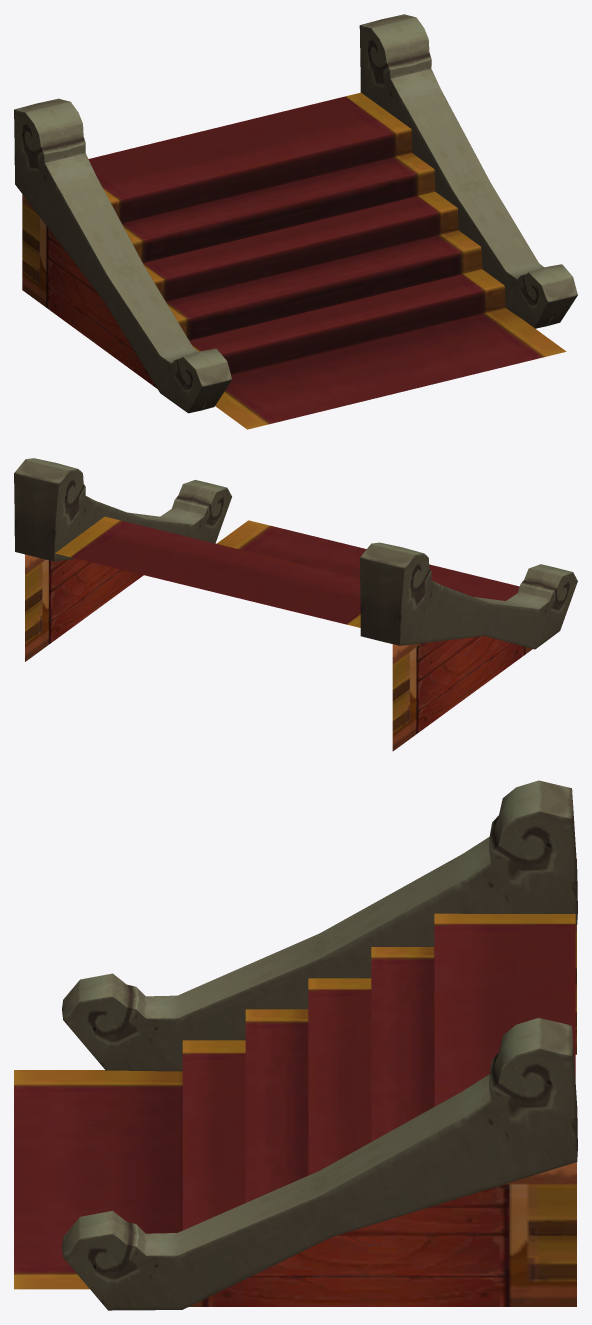
The model's file is taijiea.FBX.
The picture shows the model from 3 angles, top to bottom: view 1: azimuth 30°, elevation 25°; view 2: azimuth 150°, elevation 25°; view 3: azimuth 270°, elevation 25°; orthographic projection. The views are drawn at different scales.
Visible parts, largest first — view 1: taijie; view 2: taijie; view 3: taijie.
Part boxes in pixels (x1=…): taijie: x1=14, y1=14, x2=577, y2=429; taijie: x1=14, y1=458, x2=577, y2=751; taijie: x1=14, y1=780, x2=577, y2=1310.
Bounding box in the file's own units: 965 × 450 × 857.
